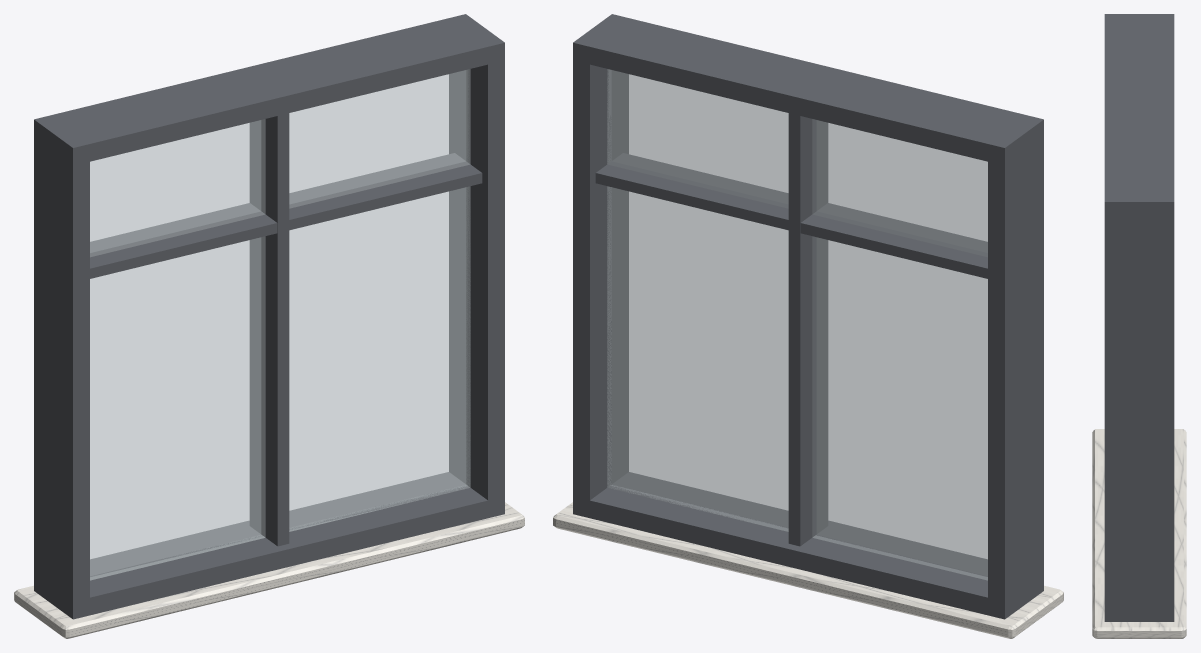
File: window_casement_glass.glb
3 views of the same model, side by side, from view 1: azimuth 30°, elevation 25°; view 2: azimuth 150°, elevation 25°; view 3: azimuth 270°, elevation 25° (orthographic). The views are drawn at different scales.
Visible parts, largest first — view 1: window_casement_glass_glassClear, window_casement_glass_metalBlack, window_casement_glass_marbleCarrara; view 2: window_casement_glass_glassClear, window_casement_glass_metalBlack, window_casement_glass_marbleCarrara; view 3: window_casement_glass_metalBlack, window_casement_glass_marbleCarrara.
Boxes of the visible parts, box(x1,y1,x2,y2) form: window_casement_glass_glassClear: box(90, 69, 470, 580); window_casement_glass_metalBlack: box(34, 14, 504, 619); window_casement_glass_marbleCarrara: box(14, 502, 524, 638); window_casement_glass_glassClear: box(607, 69, 987, 580); window_casement_glass_metalBlack: box(573, 14, 1043, 619); window_casement_glass_marbleCarrara: box(553, 502, 1063, 638); window_casement_glass_metalBlack: box(1104, 14, 1174, 621); window_casement_glass_marbleCarrara: box(1092, 429, 1186, 638).
Size of what is drawn, in the model's own units: 1.5 by 1.5 by 0.296.
3 materials, 1 textured.
